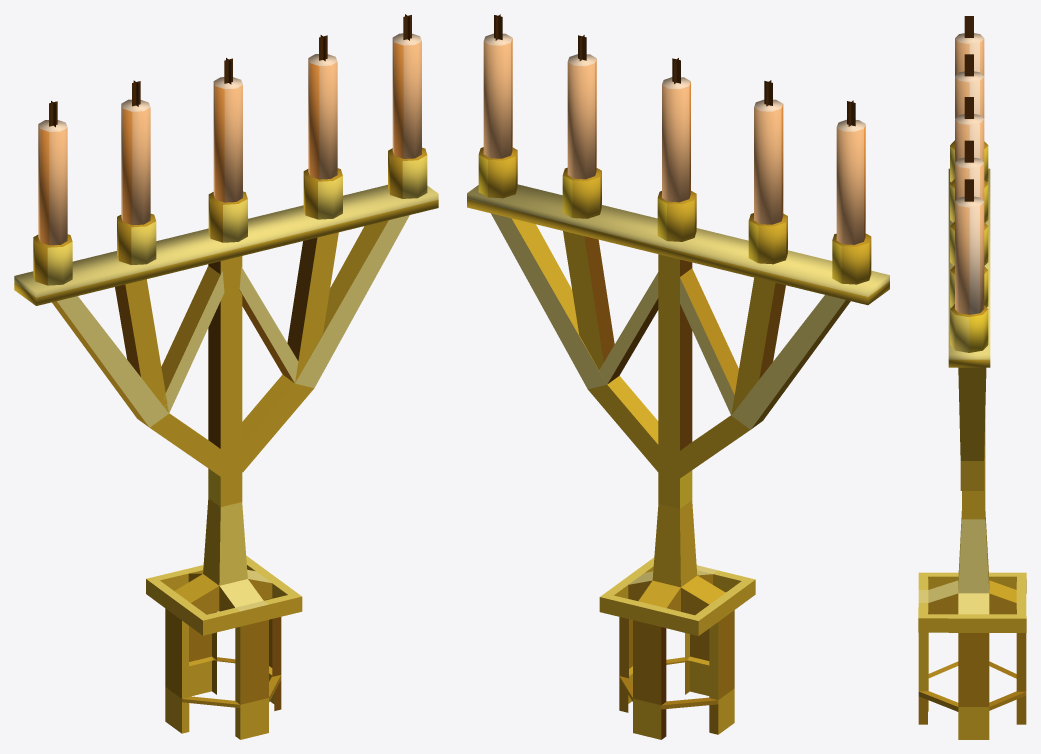
File: candle_336x04.gltf
3 renders of one model, left to right at view 1: azimuth 30°, elevation 25°; view 2: azimuth 150°, elevation 25°; view 3: azimuth 270°, elevation 25°, orthographic. The views are drawn at different scales.
Visible parts, largest first — view 1: candle_336x04; view 2: candle_336x04; view 3: candle_336x04.
Part boxes in pixels (x1,y1,x2,y2): candle_336x04: [14, 14, 438, 739]; candle_336x04: [467, 14, 889, 739]; candle_336x04: [918, 16, 1026, 739].
Bounding box in the file's own units: 1.3 × 2.02 × 0.3189.
1 material, 1 textured.
